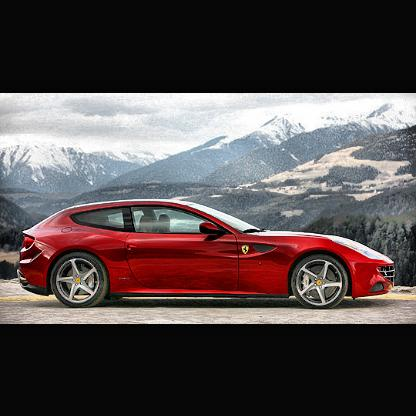Ferrari FF Coupe 2012: (18, 199, 397, 311)
